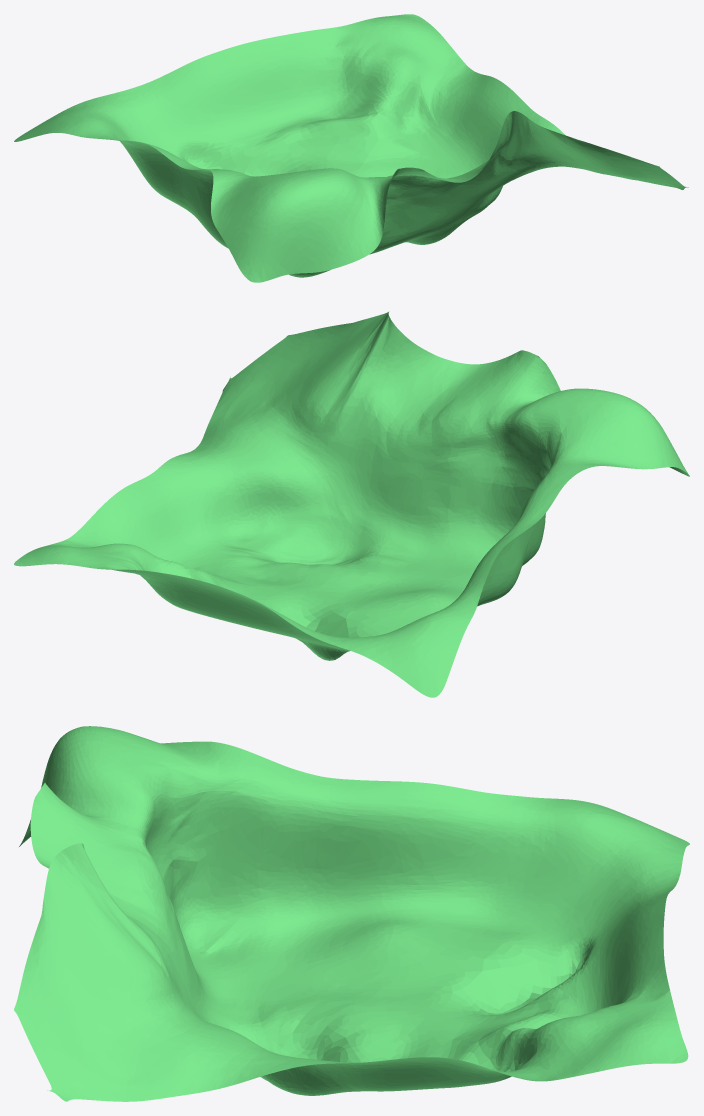
The model's file is level_new.glb.
3 renders of one model, top to bottom at view 1: azimuth 30°, elevation 25°; view 2: azimuth 150°, elevation 25°; view 3: azimuth 270°, elevation 25°, orthographic. The views are drawn at different scales.
Visible parts, largest first — view 1: Plane; view 2: Plane; view 3: Plane.
Boxes of the visible parts, x1,y1,x2,y2 form: Plane: [14, 14, 688, 282]; Plane: [14, 312, 689, 697]; Plane: [14, 726, 689, 1101].
Size of the model in its own units: 1065 by 411 by 1060.
